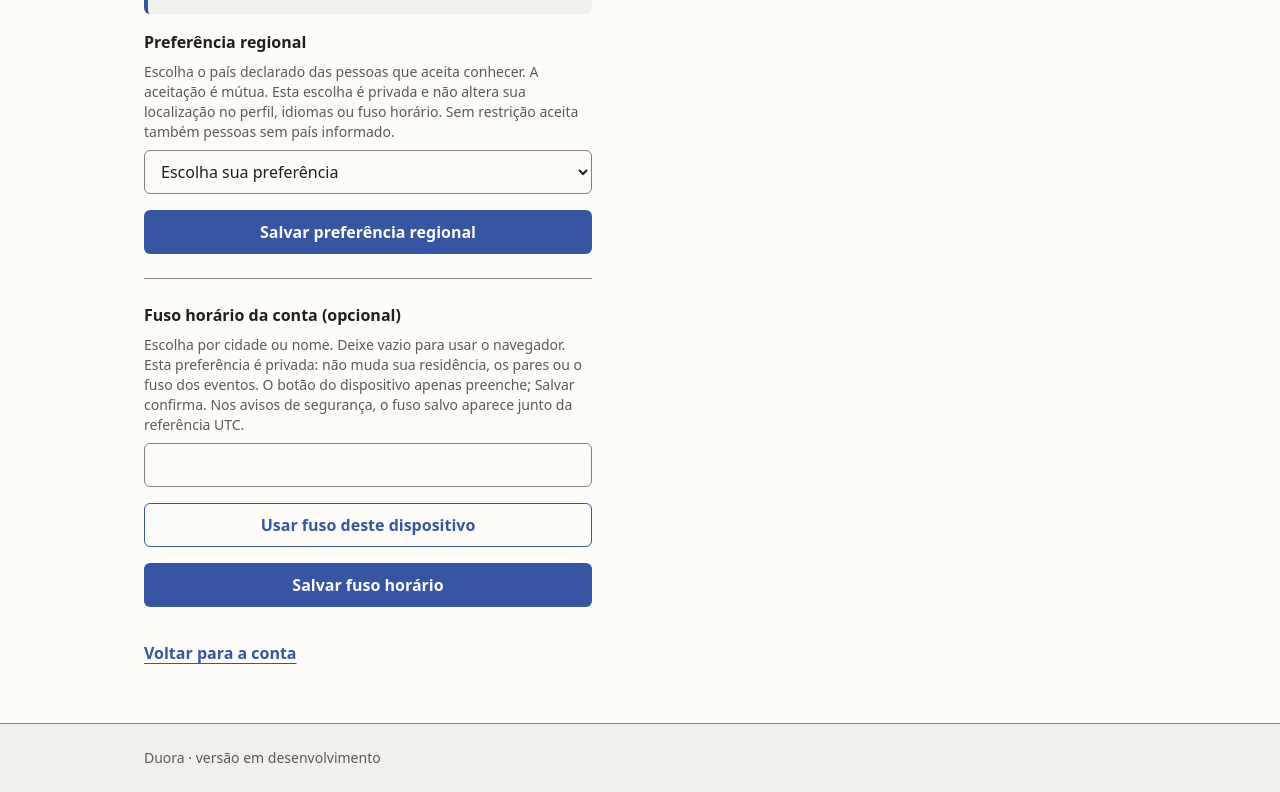
Test: explicit account zone / pt-BR › accepts a device alias and persists the server-supported IANA identifier
The image size is (1280, 792).
(page scrolled)
Step 1. Type "Asia/Calcutta" into the field labelled "Fuso horário da conta (opcional)" → [368, 465], box [144, 443, 592, 487]
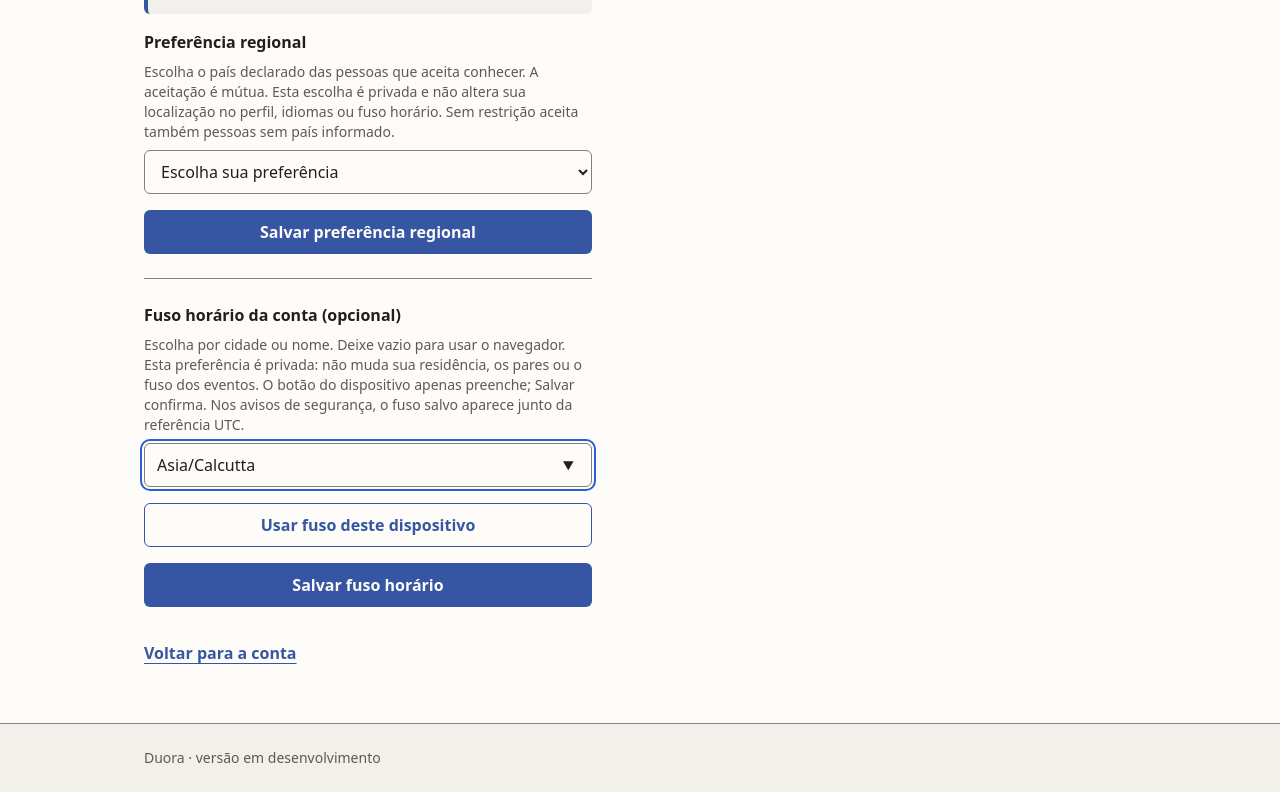
Step 2. Click the button "Salvar fuso horário" → [368, 585], box [144, 563, 592, 607]
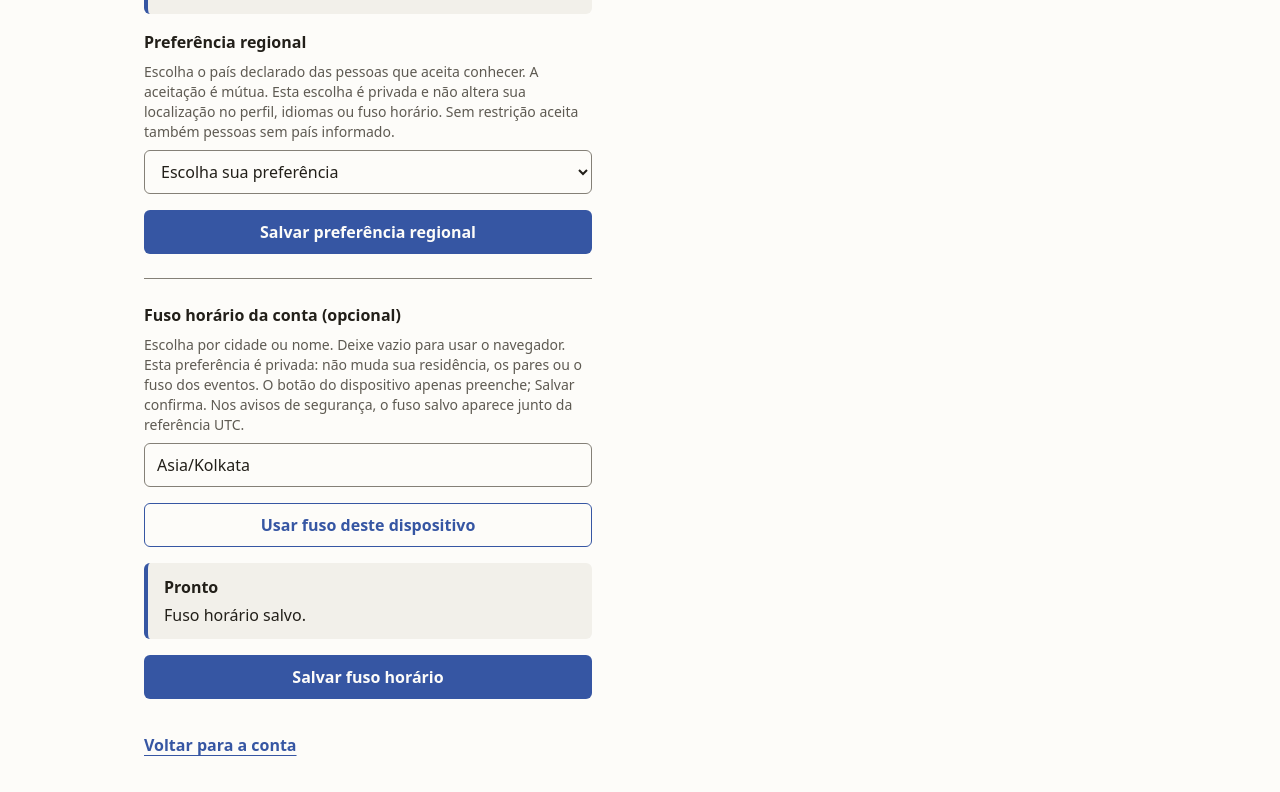
Check: the text "Fuso horário salvo." is shown, box [164, 604, 306, 626]
